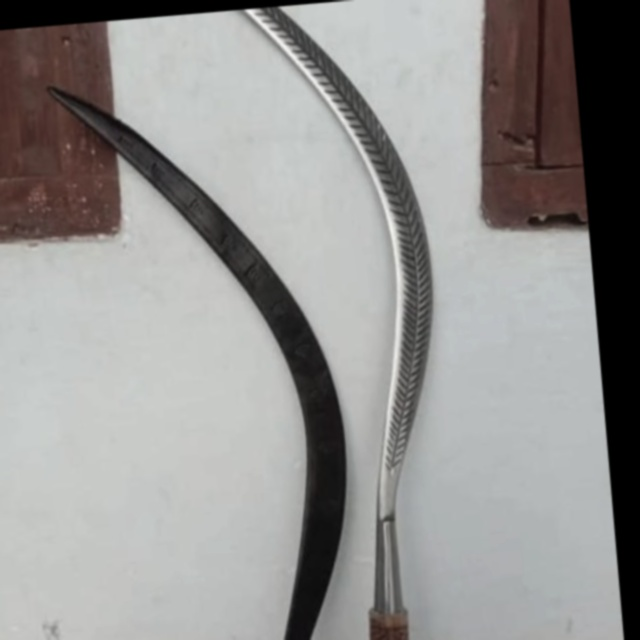Sharp-Object: (243, 3, 483, 640)
